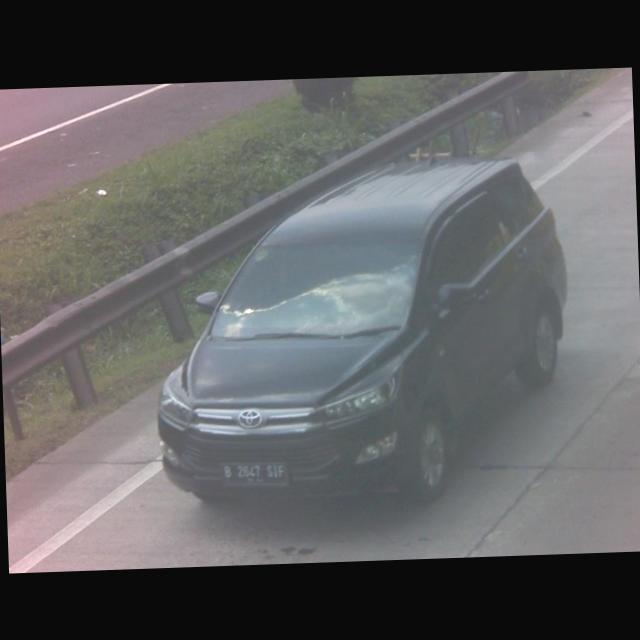plate: (218, 461, 290, 488)
